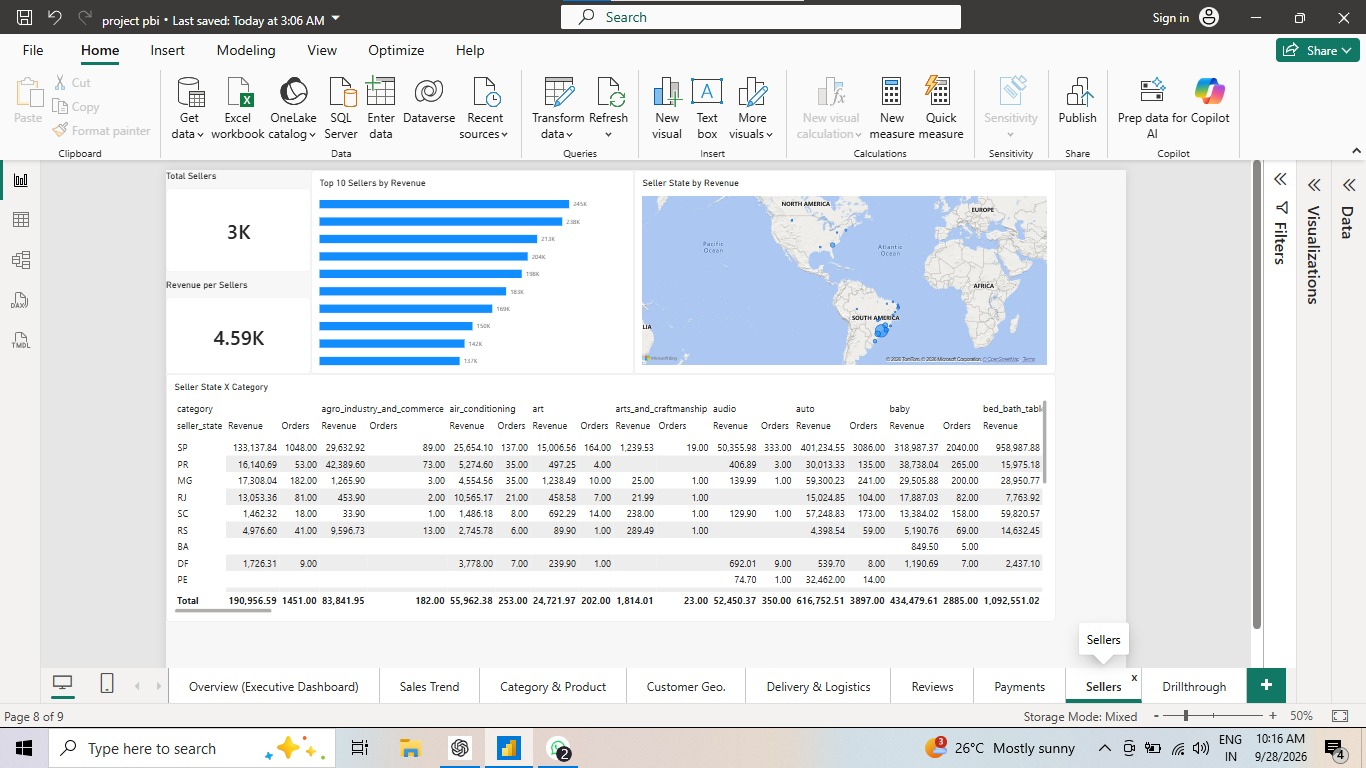

Layout of this report page (visuals, bound fields, positions):
{"tool":"powerbi","page":{"name":"Sellers","canvas":[1920,1080],"ordinal":7},"visuals":[{"type":"cardVisual","title":"Total Sellers","fields":{"Data":["public bi_fact_sales.Sellers"]},"box":[0,0,289.1,204.1],"z":0},{"type":"pivotTable","title":"Seller State X Category","fields":{"Columns":["public bi_fact_sales.category"],"Rows":["public bi_fact_sales.seller_state"],"Values":["public bi_fact_sales.Revenue","public bi_fact_sales.Orders"]},"box":[0,408.2,1779.4,495.4],"z":3},{"type":"map","title":"Seller State by Revenue","fields":{"Category":["public bi_fact_sales.seller_state"],"Size":["public bi_fact_sales.Revenue"]},"box":[935.4,0,844,408.2],"z":4},{"type":"barChart","title":"Top 10 Sellers by Revenue","fields":{"Category":["public bi_fact_sales.seller_id"],"Y":["public bi_fact_sales.Revenue"]},"box":[289.1,0,646.3,408.2],"z":5},{"type":"cardVisual","title":"Revenue per Sellers","fields":{"Data":["public bi_fact_sales.Revenue per Seller"]},"box":[0,219,289.1,189.2],"z":7}]}

Visuals, with their boxes on the page's 1920x1080 design canvas (x1, y1, x2, y2). These are canvas units, not pixel positions in the 1366x768 screenshot, which may show the page scaled, cropped or inside an application window:
"Total Sellers" cardVisual: <region>0, 0, 289, 204</region>
"Seller State X Category" pivotTable: <region>0, 408, 1779, 904</region>
"Seller State by Revenue" map: <region>935, 0, 1779, 408</region>
"Top 10 Sellers by Revenue" barChart: <region>289, 0, 935, 408</region>
"Revenue per Sellers" cardVisual: <region>0, 219, 289, 408</region>
